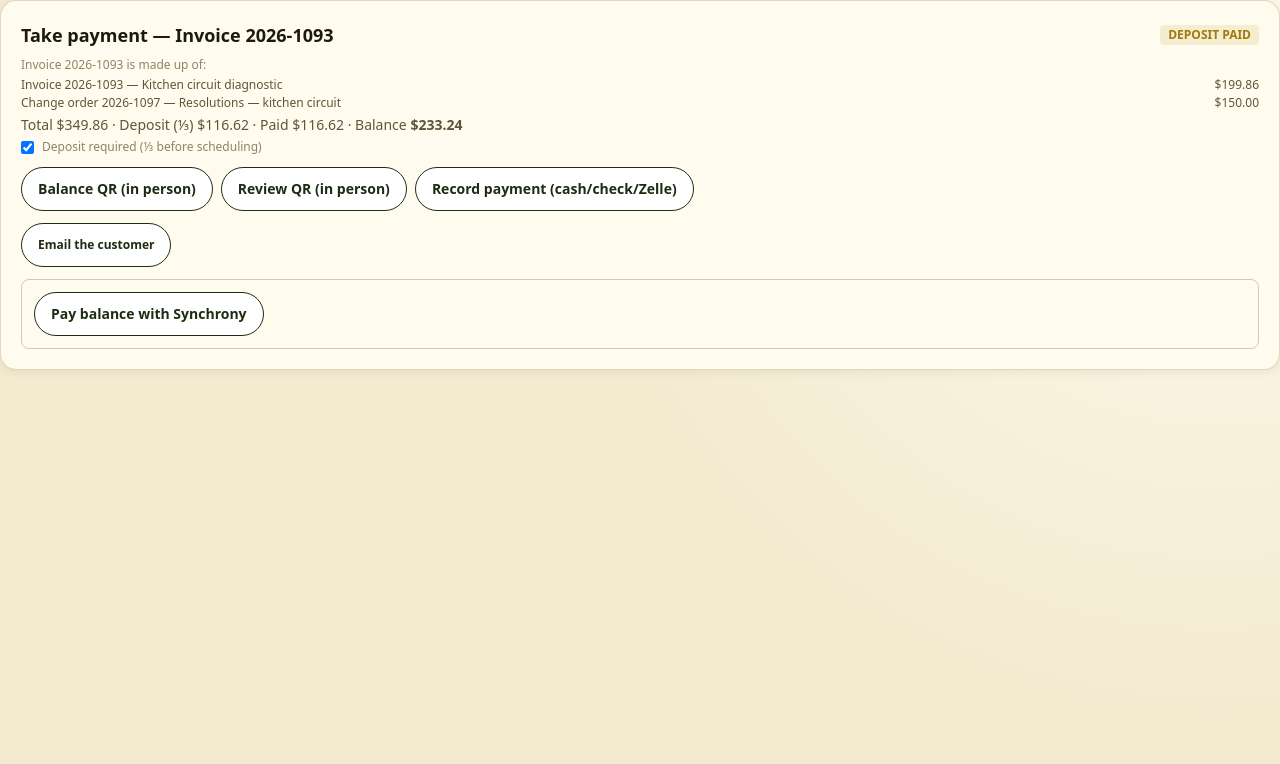
Scenario: PaymentPanel › names the invoice and its balance on the whole-invoice send — never 'final bill', and the old separate email buttons are gone
Click the button "Email the customer" at (96, 245), box [21,223,172,267]
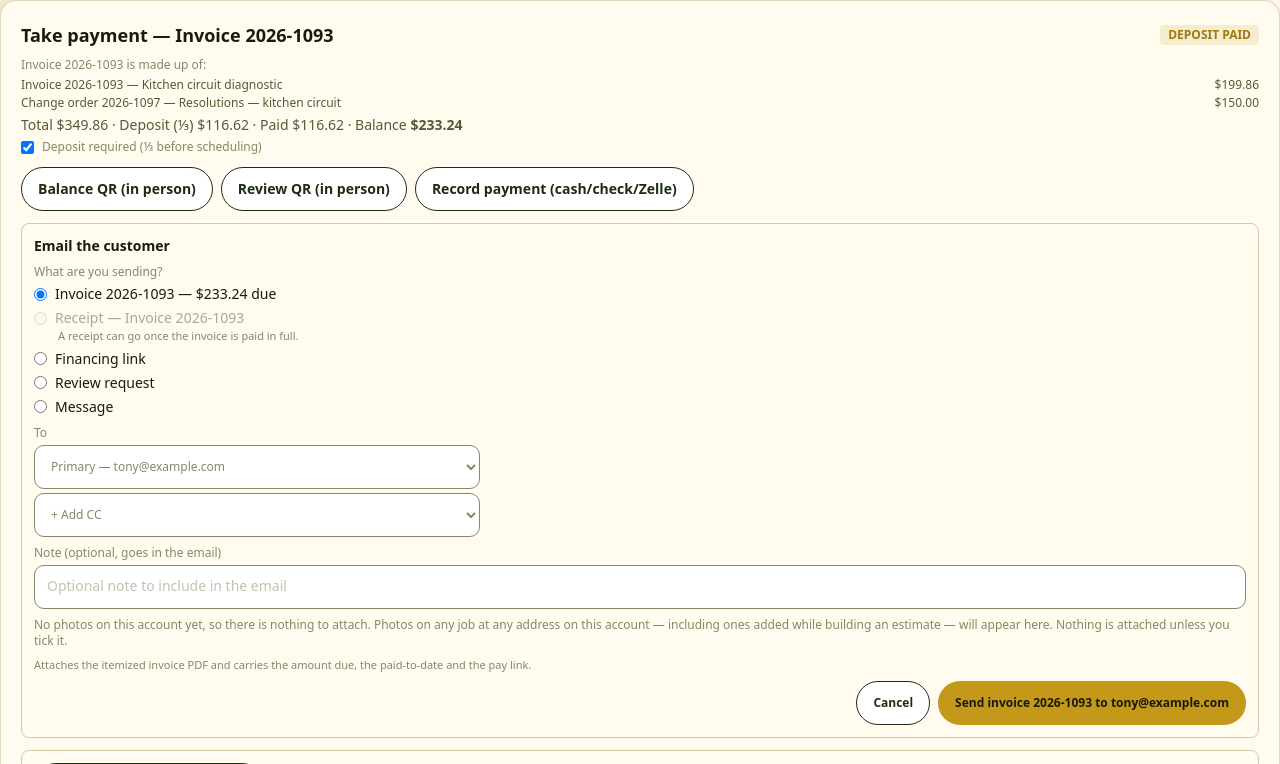
Check: the button "Balance QR (in person)" is shown, box [21,167,213,211]
Check: the radio button labelled "Invoice 2026-1093 — $233.24 due" is checked, box [34,288,47,300]
Check: the number of buttons "Send invoice 2026-1093 to tony@example.com" is 1, box [938,681,1246,725]
